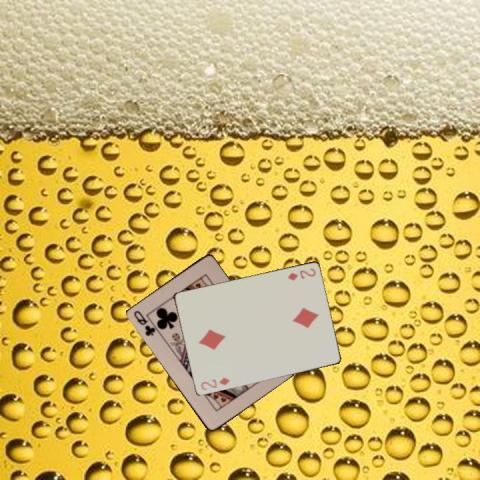2d: (197, 375, 231, 392), (284, 265, 317, 282)
Qc: (130, 308, 156, 338)
